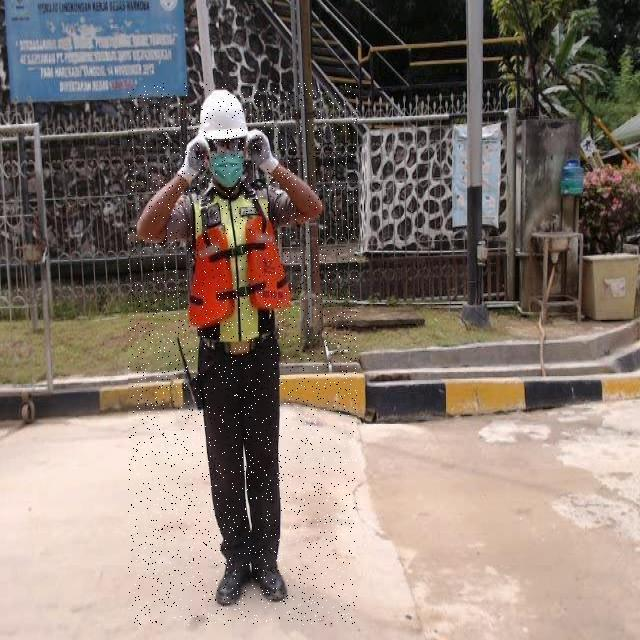boots: (215, 560, 251, 604), (252, 563, 287, 601)
gloves: (245, 129, 279, 174), (181, 133, 211, 179)
hard-hat: (198, 89, 248, 142)
person: (135, 89, 324, 606)
vest: (166, 172, 286, 350)
